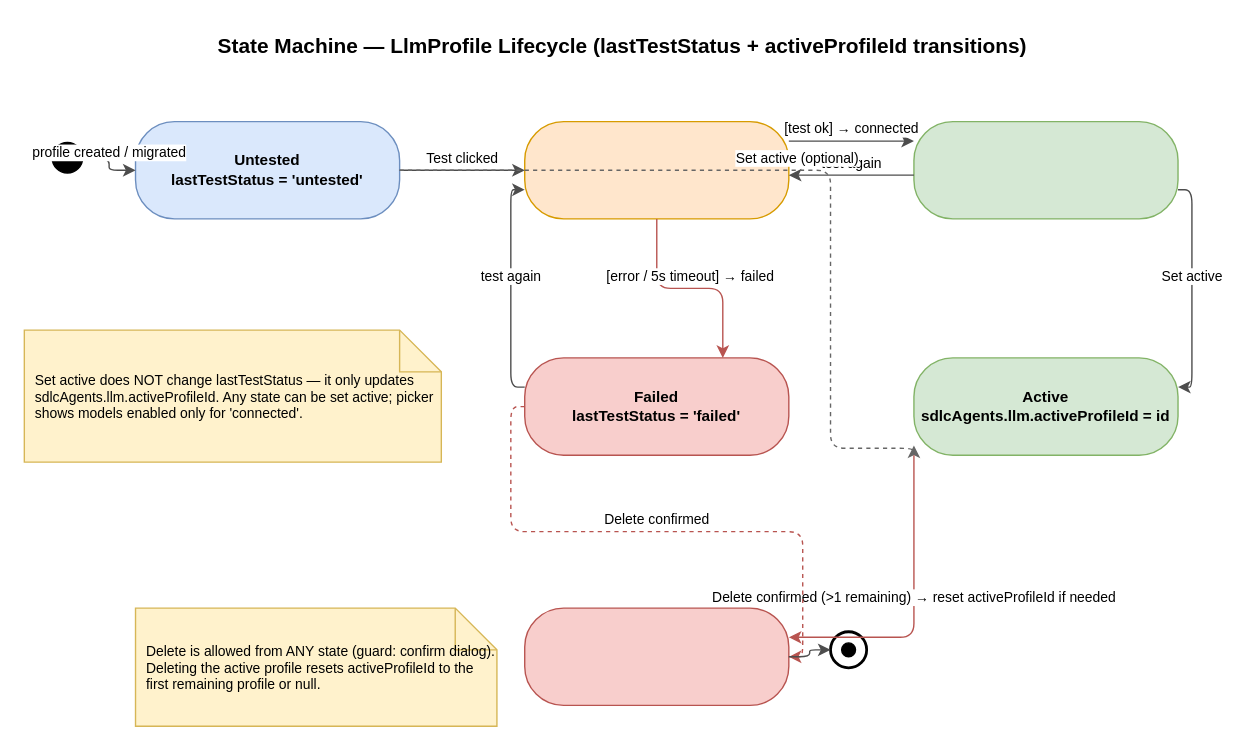
Image size: 1247x751. Some labels were removed from this diagram. Here are the shapes that lost their labels. From the top down, the centre of each, then its label:
(x=656, y=169): Testing async connection test (5s timeout)
(x=1045, y=169): Connected lastTestStatus = 'connected' lastTestedAt set
(x=656, y=656): Deleted removed from profiles[]
